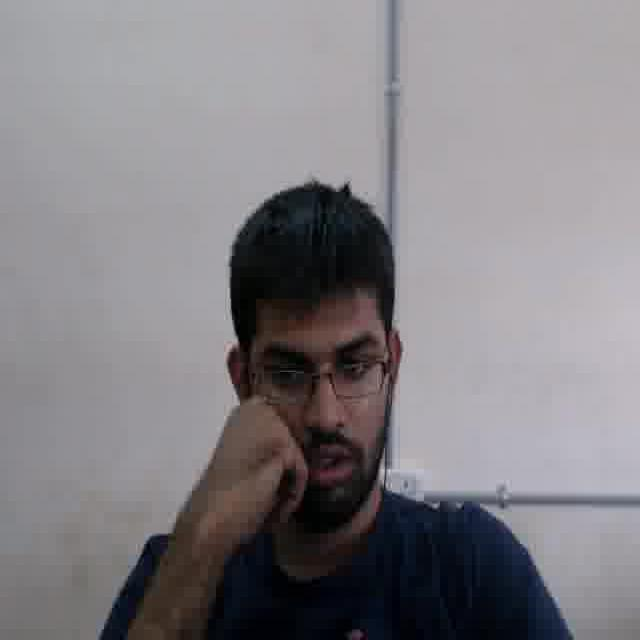Engaged: (245, 291, 382, 509)
